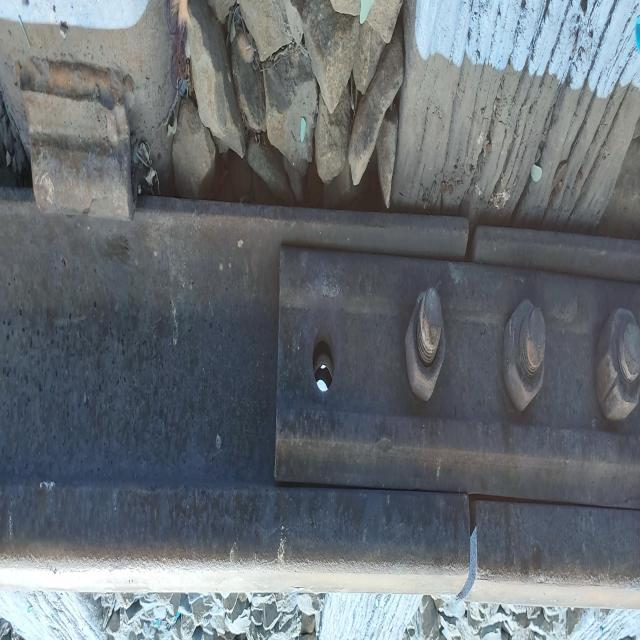Defective Joint: (275, 246, 640, 508)
Missing Fastener: (23, 91, 134, 220)
